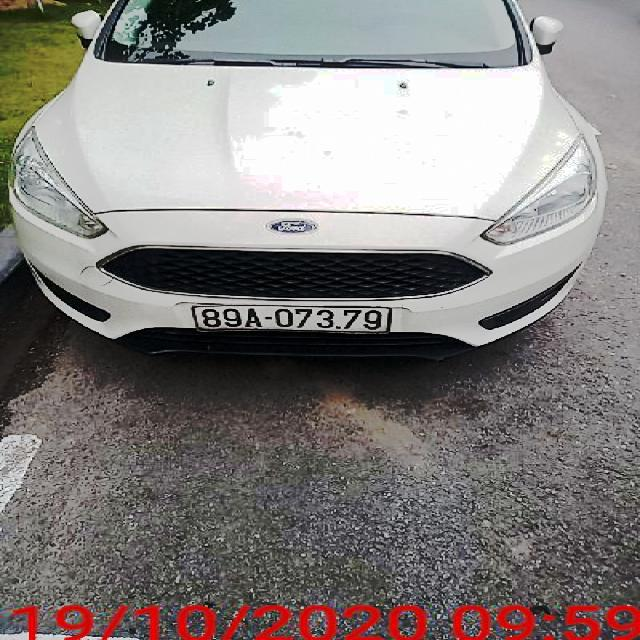license_plate: (189, 304, 392, 334)
